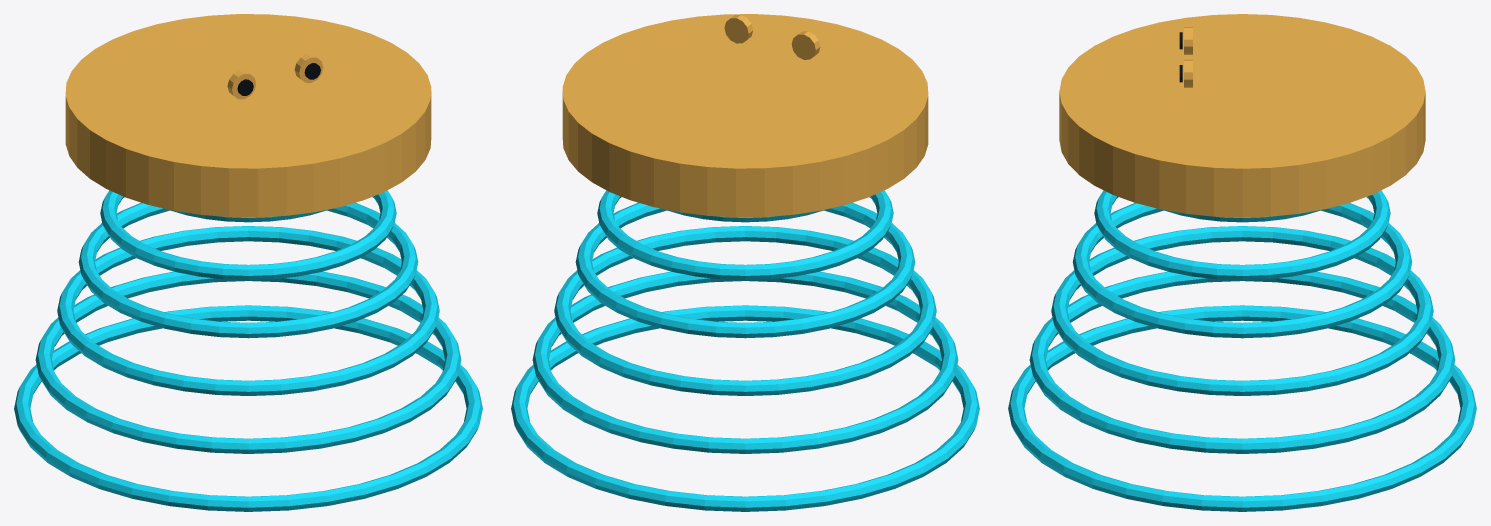
The model's file is 14_L92_MissionQualificationBeacon.fbx.
The picture shows the model from 3 angles, left to right: view 1: azimuth 30°, elevation 25°; view 2: azimuth 150°, elevation 25°; view 3: azimuth 270°, elevation 25°; orthographic projection.
Parts seen in each view (by area): view 1: L92_MissionQualificationBeacon_Part_0000, L92_MissionQualificationBeacon_Part_0001; view 2: L92_MissionQualificationBeacon_Part_0000, L92_MissionQualificationBeacon_Part_0001, L92_MissionQualificationBeacon_Part_0002, L92_MissionQualificationBeacon_Part_0004; view 3: L92_MissionQualificationBeacon_Part_0000, L92_MissionQualificationBeacon_Part_0001.
Boxes of the visible parts, left/top/right/bottom form: L92_MissionQualificationBeacon_Part_0000: left=65, top=14, right=431, bottom=217; L92_MissionQualificationBeacon_Part_0001: left=14, top=190, right=482, bottom=511; L92_MissionQualificationBeacon_Part_0000: left=562, top=14, right=928, bottom=217; L92_MissionQualificationBeacon_Part_0001: left=511, top=190, right=979, bottom=511; L92_MissionQualificationBeacon_Part_0002: left=791, top=31, right=820, bottom=59; L92_MissionQualificationBeacon_Part_0004: left=724, top=15, right=752, bottom=43; L92_MissionQualificationBeacon_Part_0000: left=1059, top=14, right=1425, bottom=217; L92_MissionQualificationBeacon_Part_0001: left=1008, top=190, right=1476, bottom=511.
Size of the model in its own units: 218 by 190 by 218.
